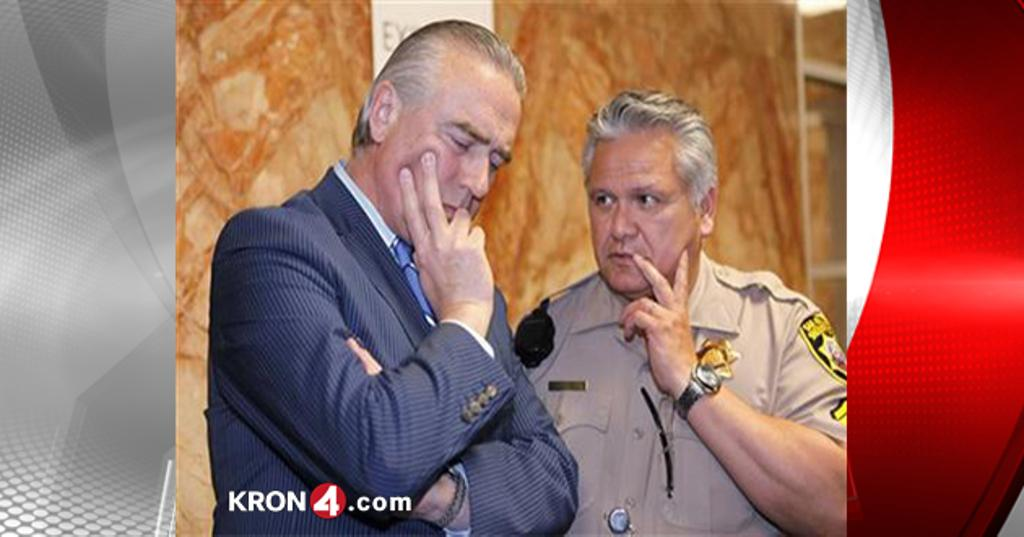face: (402, 54, 508, 238), (586, 142, 684, 292)
